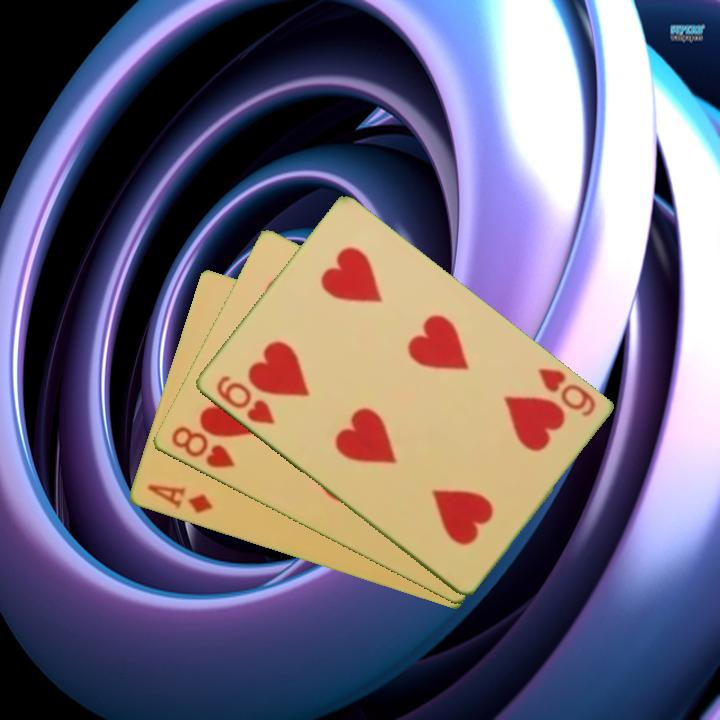6h: (211, 372, 277, 428), (533, 364, 599, 420)
8h: (167, 422, 237, 472)
Ad: (143, 481, 215, 517)
